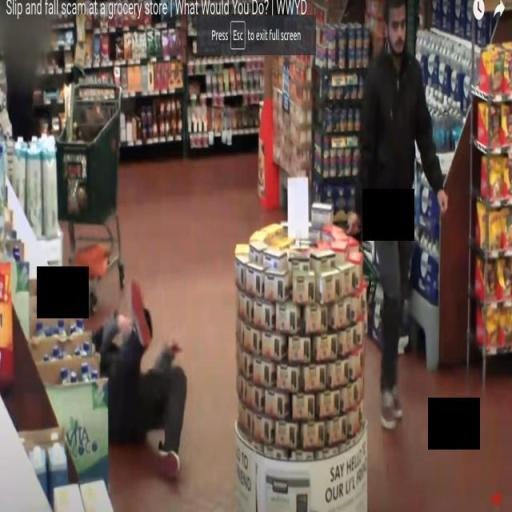Fall: (93, 277, 189, 480)
